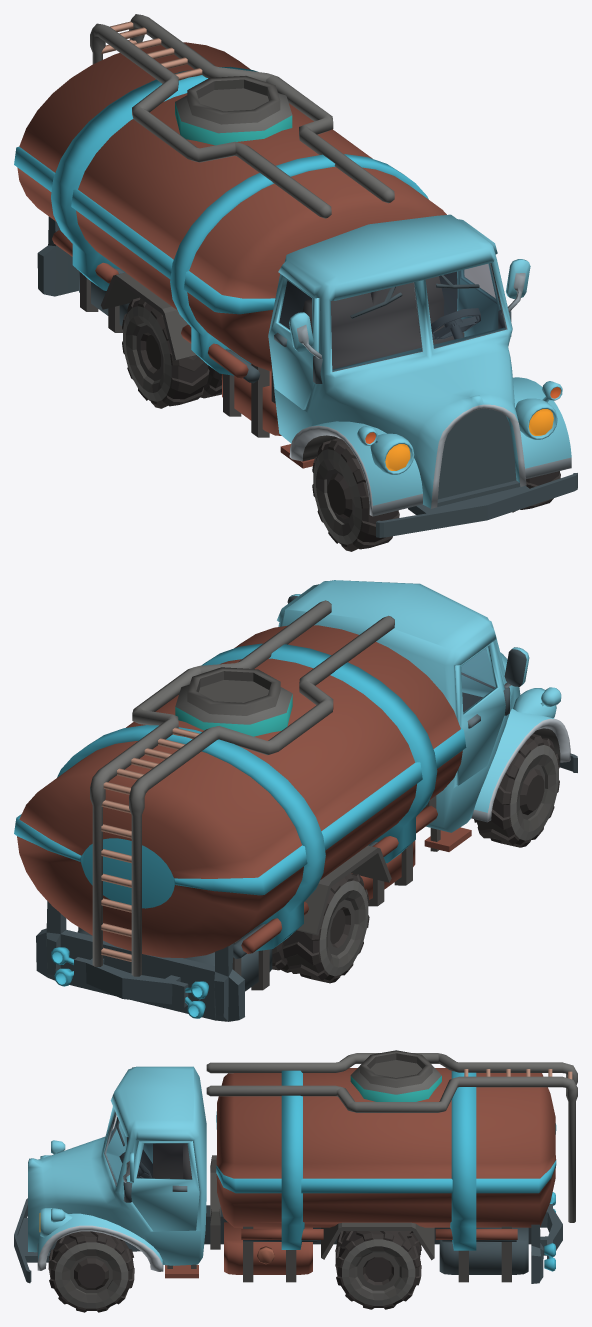
The model's file is truck_02.glb.
3 renders of one model, top to bottom at view 1: azimuth 30°, elevation 25°; view 2: azimuth 150°, elevation 25°; view 3: azimuth 270°, elevation 25°, orthographic. The views are drawn at different scales.
Parts seen in each view (by area): view 1: Truck_Tanker.001, Truck_body.002, Truck_Engine.002, Truck_Wheel_Back.002, Truck_Wheel_Front.right.002, Truck_Door.right.002, TruckModule_OilTank.002, Truck_WheelCover.002, Truck_Door.left.002, Truck_Bumper.002, TruckModule_Laggage.002, Truck_Steering.002; view 2: Truck_Tanker.001, Truck_body.002, Truck_Bumper.002, Truck_Wheel_Back.002, Truck_Wheel_Front.right.002, Truck_Door.right.002, Truck_WheelCover.002, TruckModule_Laggage.002, TruckModule_OilTank.002; view 3: Truck_Tanker.001, Truck_body.002, Truck_Wheel_Back.002, Truck_Wheel_Front.left.002, Truck_Door.left.002, TruckModule_OilTank.002, TruckModule_Laggage.002, Truck_Bumper.002, Truck_WheelCover.002, Truck_Chassy_Short.002, Truck_Engine.002.
Part boxes in pixels (left/top/right/bottom): Truck_Tanker.001: left=14, top=14, right=446, bottom=383; Truck_body.002: left=272, top=214, right=571, bottom=516; Truck_Engine.002: left=376, top=408, right=577, bottom=537; Truck_Wheel_Back.002: left=122, top=297, right=221, bottom=408; Truck_Wheel_Front.right.002: left=312, top=438, right=399, bottom=551; Truck_Door.right.002: left=268, top=274, right=318, bottom=409; TruckModule_OilTank.002: left=222, top=363, right=281, bottom=437; Truck_WheelCover.002: left=101, top=272, right=196, bottom=360; Truck_Door.left.002: left=457, top=263, right=500, bottom=336; Truck_Bumper.002: left=37, top=216, right=78, bottom=296; TruckModule_Laggage.002: left=79, top=271, right=129, bottom=332; Truck_Steering.002: left=431, top=308, right=480, bottom=339; Truck_Tanker.001: left=14, top=600, right=466, bottom=976; Truck_body.002: left=277, top=580, right=570, bottom=851; Truck_Bumper.002: left=36, top=901, right=244, bottom=1021; Truck_Wheel_Back.002: left=272, top=873, right=369, bottom=983; Truck_Wheel_Front.right.002: left=474, top=733, right=559, bottom=847; Truck_Door.right.002: left=455, top=642, right=505, bottom=785; Truck_WheelCover.002: left=297, top=845, right=391, bottom=935; TruckModule_Laggage.002: left=77, top=927, right=272, bottom=991; TruckModule_OilTank.002: left=351, top=840, right=415, bottom=906; Truck_Tanker.001: left=206, top=1050, right=577, bottom=1250; Truck_body.002: left=28, top=1066, right=206, bottom=1278; Truck_Wheel_Back.002: left=335, top=1231, right=421, bottom=1309; Truck_Wheel_Front.left.002: left=48, top=1231, right=134, bottom=1312; Truck_Door.left.002: left=129, top=1141, right=199, bottom=1231; TruckModule_OilTank.002: left=224, top=1222, right=312, bottom=1282; TruckModule_Laggage.002: left=439, top=1226, right=528, bottom=1282; Truck_Bumper.002: left=531, top=1192, right=562, bottom=1283; Truck_WheelCover.002: left=321, top=1222, right=434, bottom=1260; Truck_Chassy_Short.002: left=204, top=1155, right=531, bottom=1249; Truck_Engine.002: left=14, top=1198, right=140, bottom=1283.
Size of the model in its own units: 2.83 by 2.93 by 7.05.
4 materials, 3 textured.
